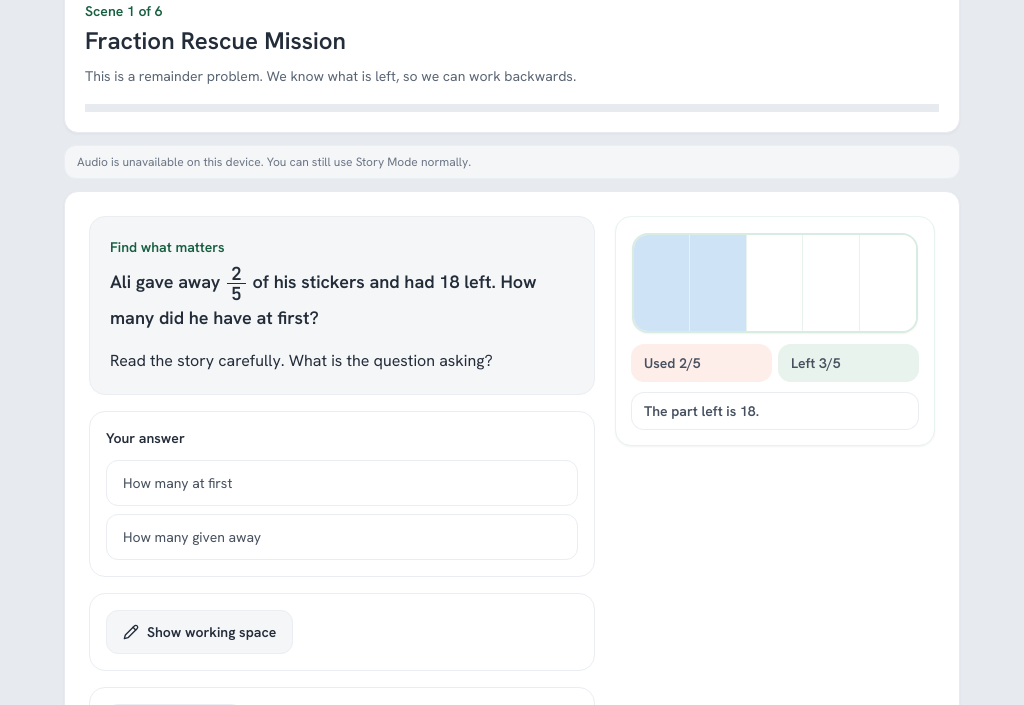
Test case: FractionsStoryModeSession direct routes › shows success narration before unlocking the next scene
What coordinates should you click on to do the following:
click the button "How many at first"
I would click on:
 (178, 483)
Its box is [106,460,578,506].
(page scrolled)
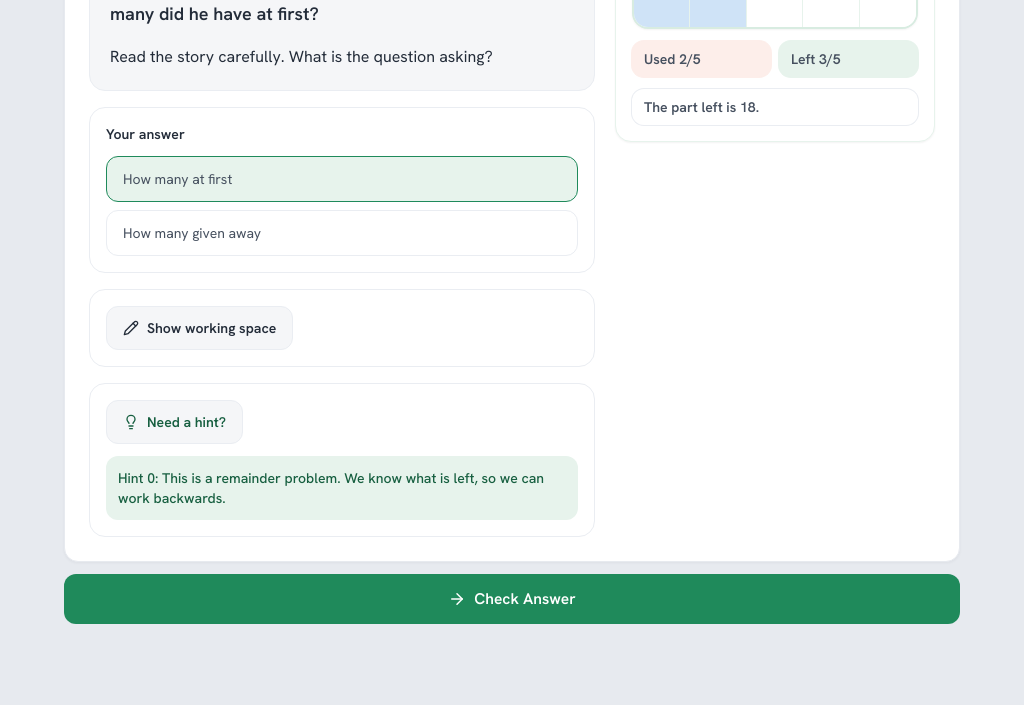
What coordinates should you click on to do the following:
click the button "Check Answer"
I would click on:
 (512, 599)
Its box is [64,574,960,624].
(page scrolled)
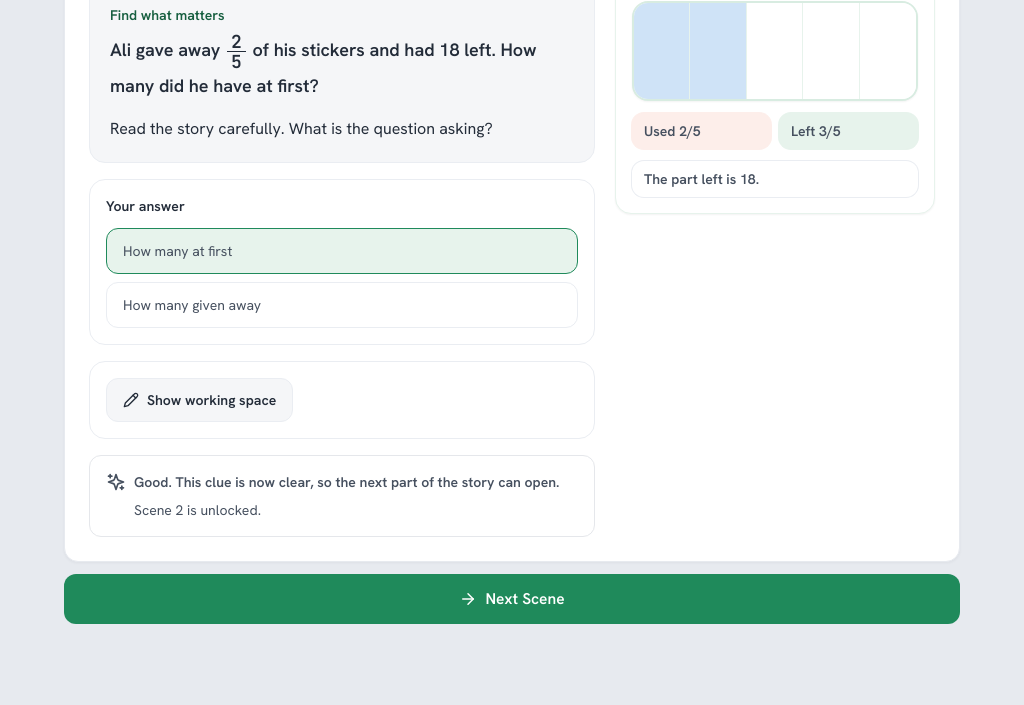
Expected: the text "Good. This clue is now clear" is shown, [134,473,560,491]
Expected: the text "Scene 2 is unlocked." is shown, [134,501,261,519]
Expected: the button "Next Scene" is shown, [64,574,960,624]
